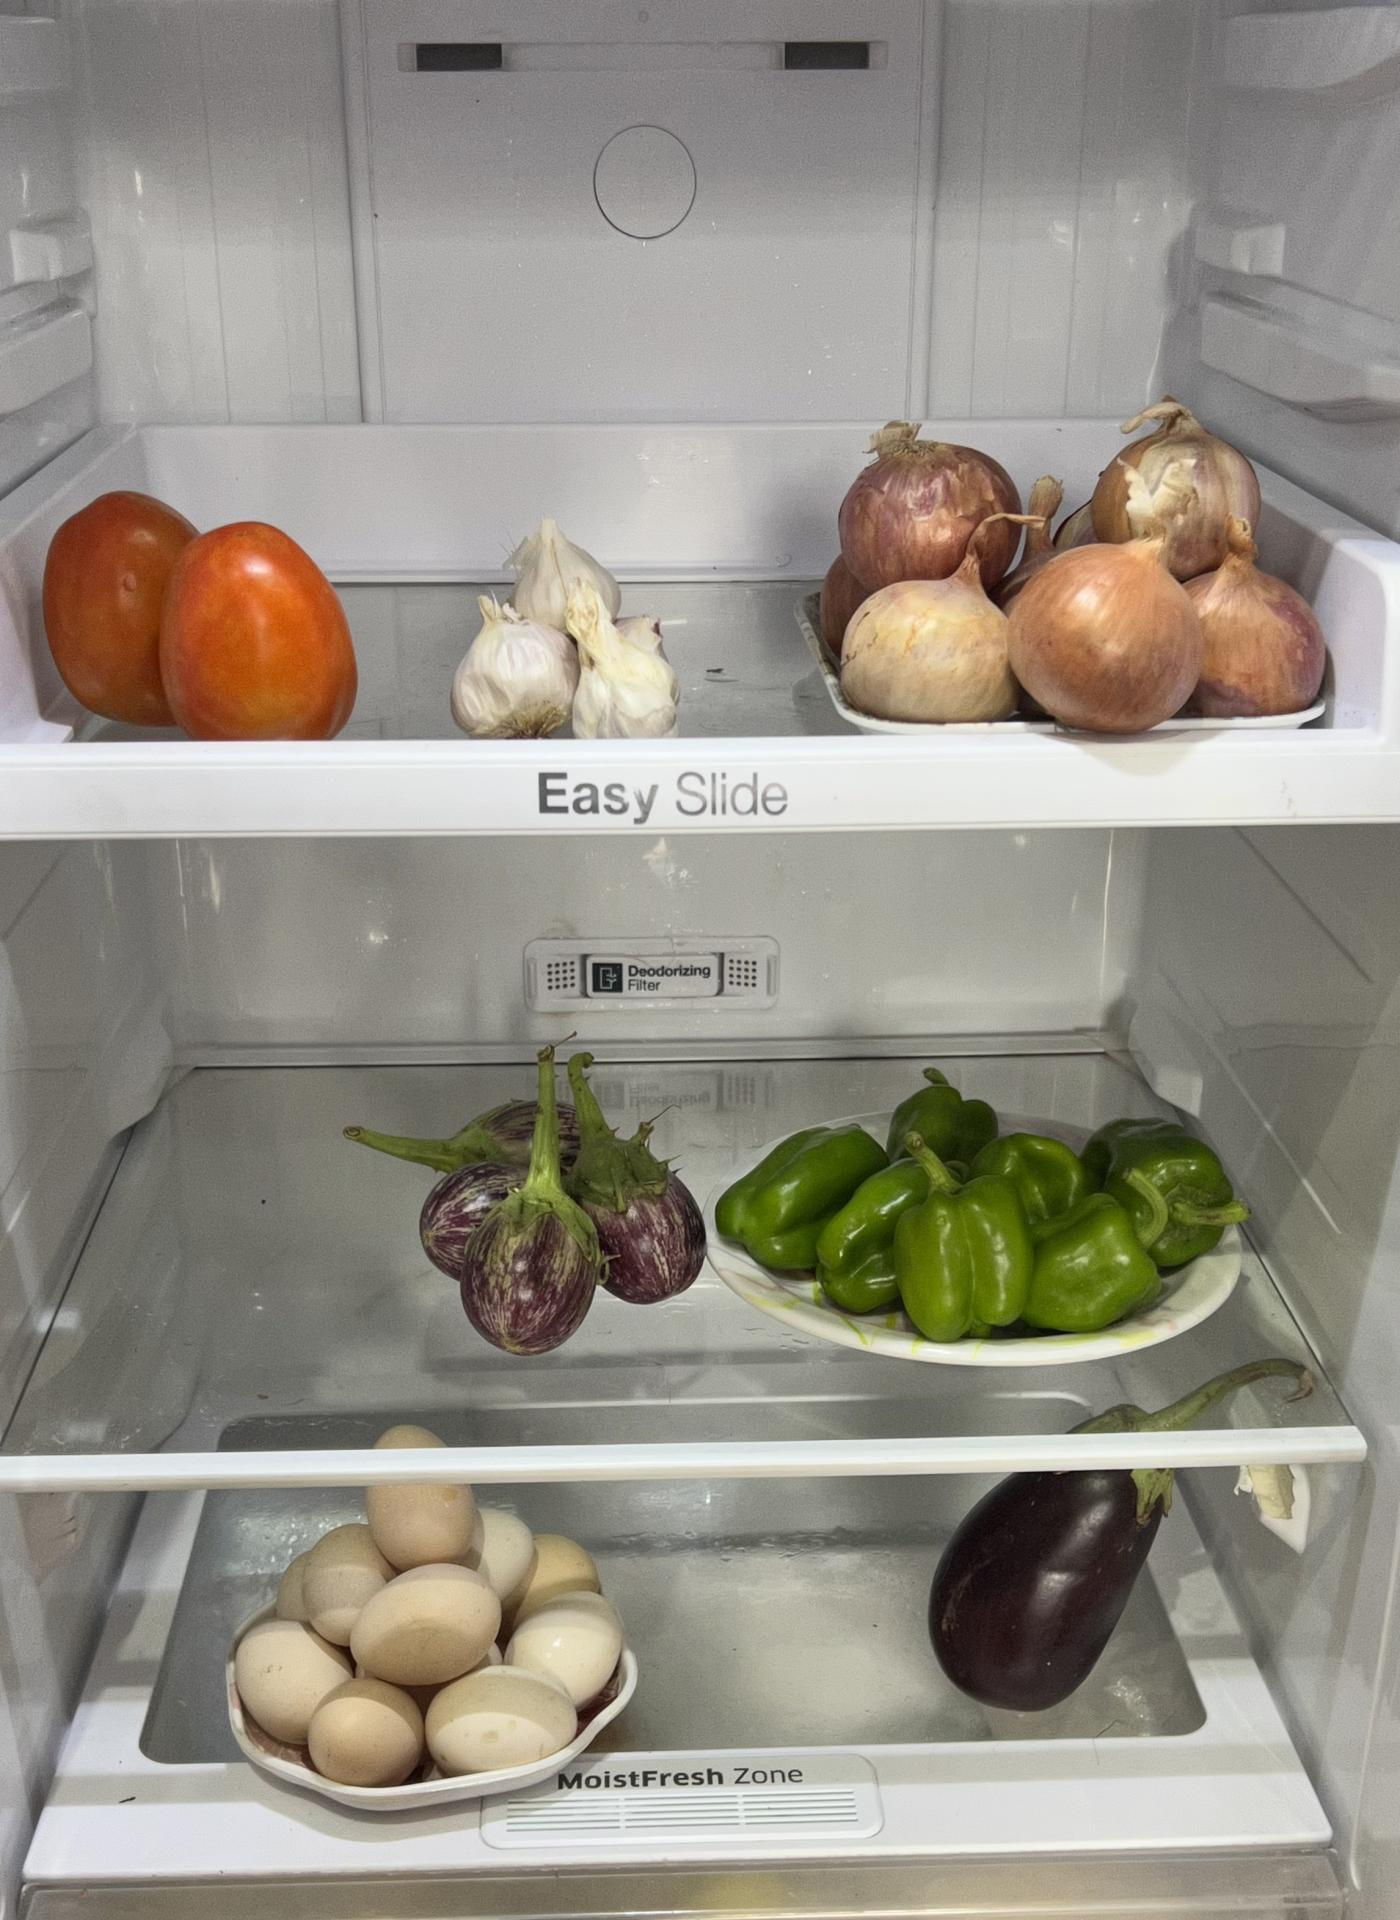capsicum: (720, 1084, 1273, 1337)
egg: (218, 1476, 631, 1780)
garlic: (455, 517, 684, 742)
onion: (817, 417, 1322, 726)
tomato: (33, 477, 355, 745)
